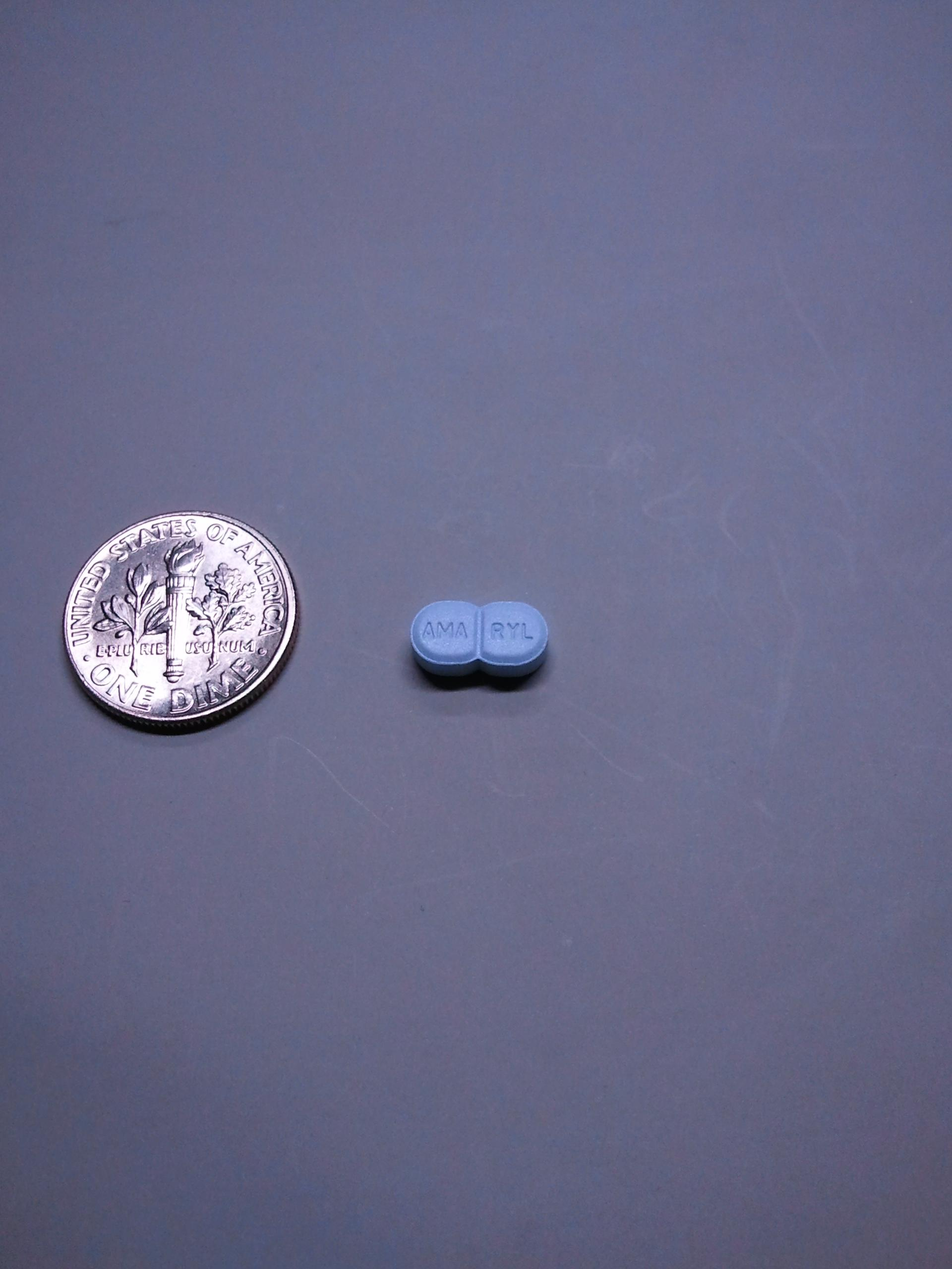Pill: (389, 580, 579, 699)
